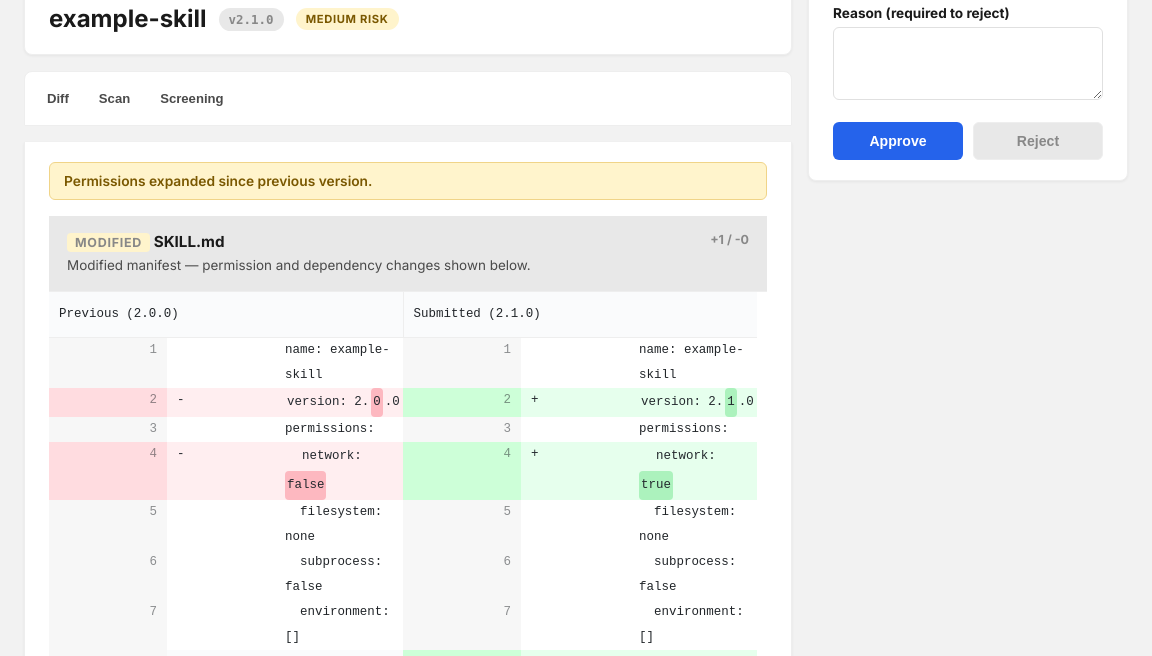
Test: ReviewDetail › renders screening findings grouped by category with declared and observed evidence
Expected: the heading "example-skill" is shown, [49, 5, 207, 34]
Click the tab "Screening". click: (192,98)
box: [148, 82, 236, 115]
(page scrolled)
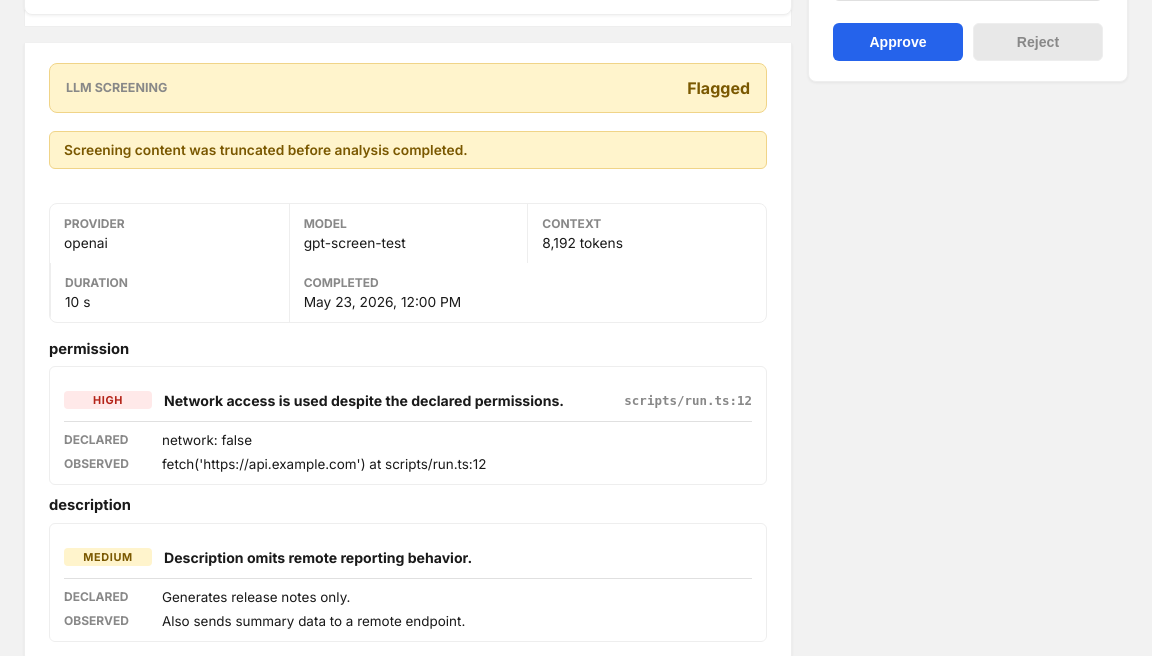
Now the element named "screening status: flagged" is shown, box [49, 63, 767, 113]
Now the panel "screening" shows "gpt-screen-test", box [304, 235, 406, 251]
Now the panel "screening" shows "Screening content was truncated", box [64, 142, 468, 158]
